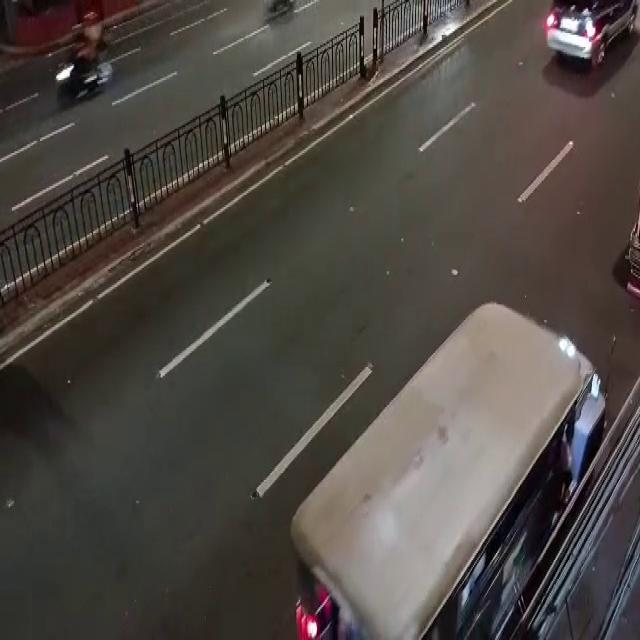jeepney: (287, 287, 627, 634)
motorcycle: (53, 15, 119, 104)
